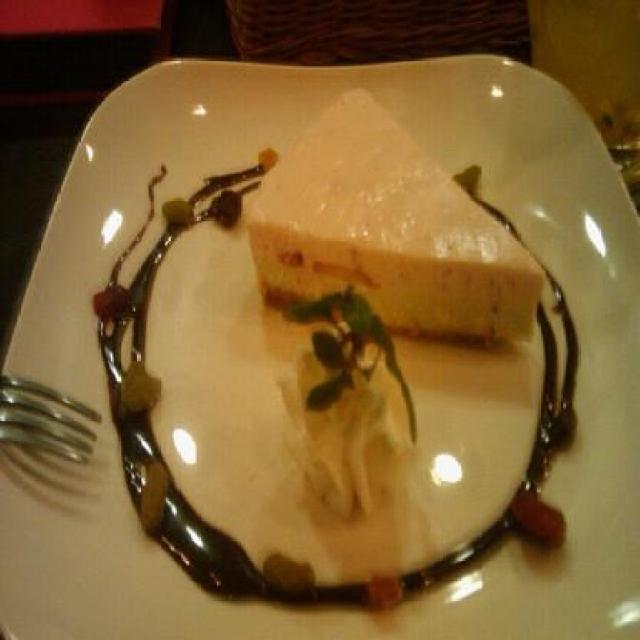Rare cheese cake: (202, 80, 590, 528)
